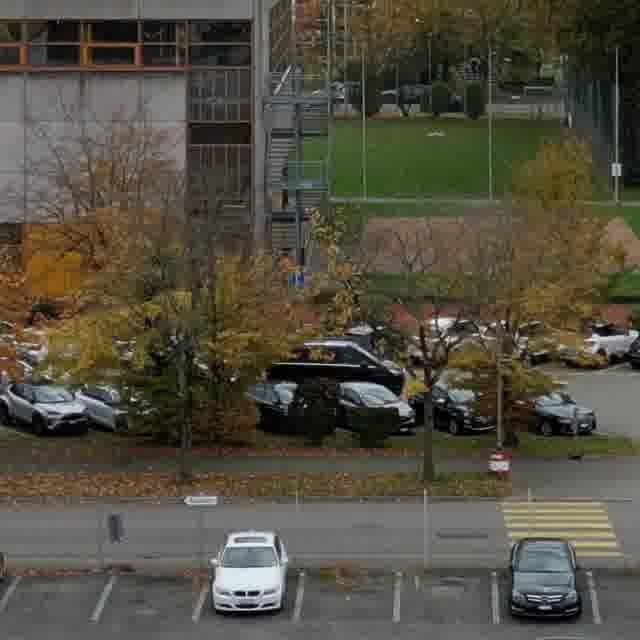Drohne: (427, 130, 445, 136)
